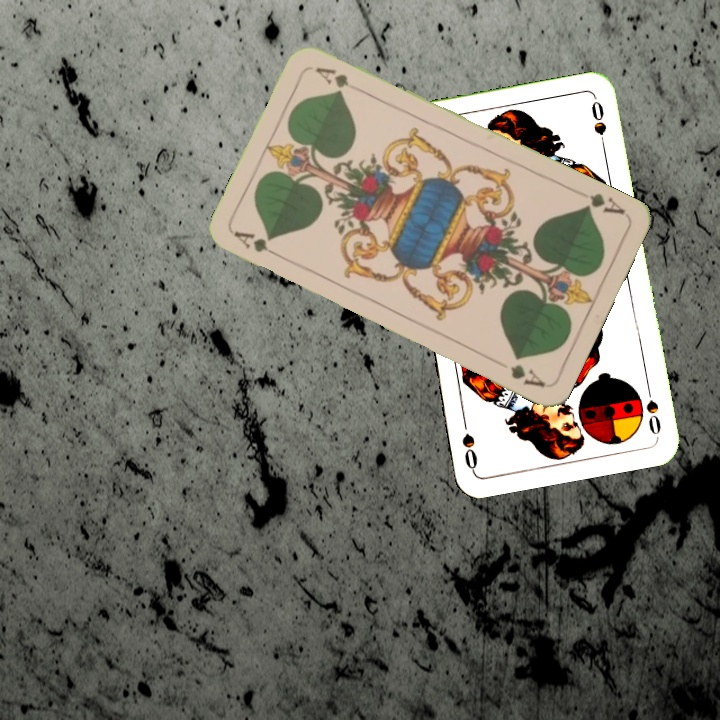GA: (230, 227, 285, 261), (578, 189, 628, 217)
SO: (642, 381, 664, 440)
